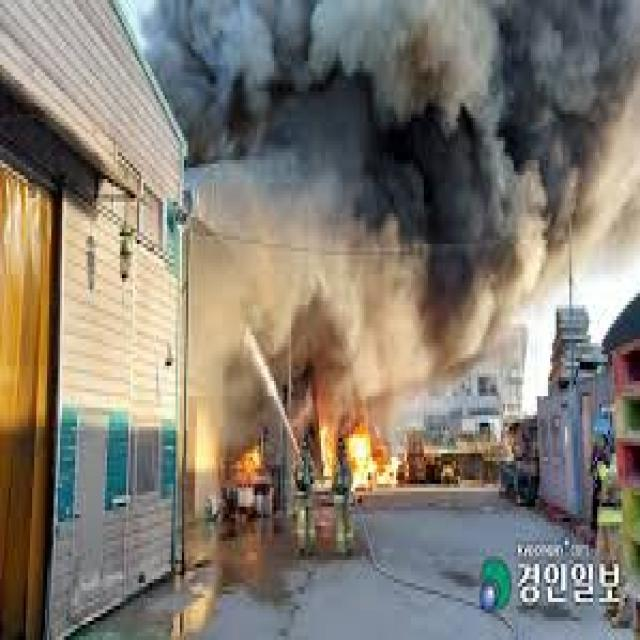Smoke: (191, 2, 633, 160), (278, 167, 440, 364)
